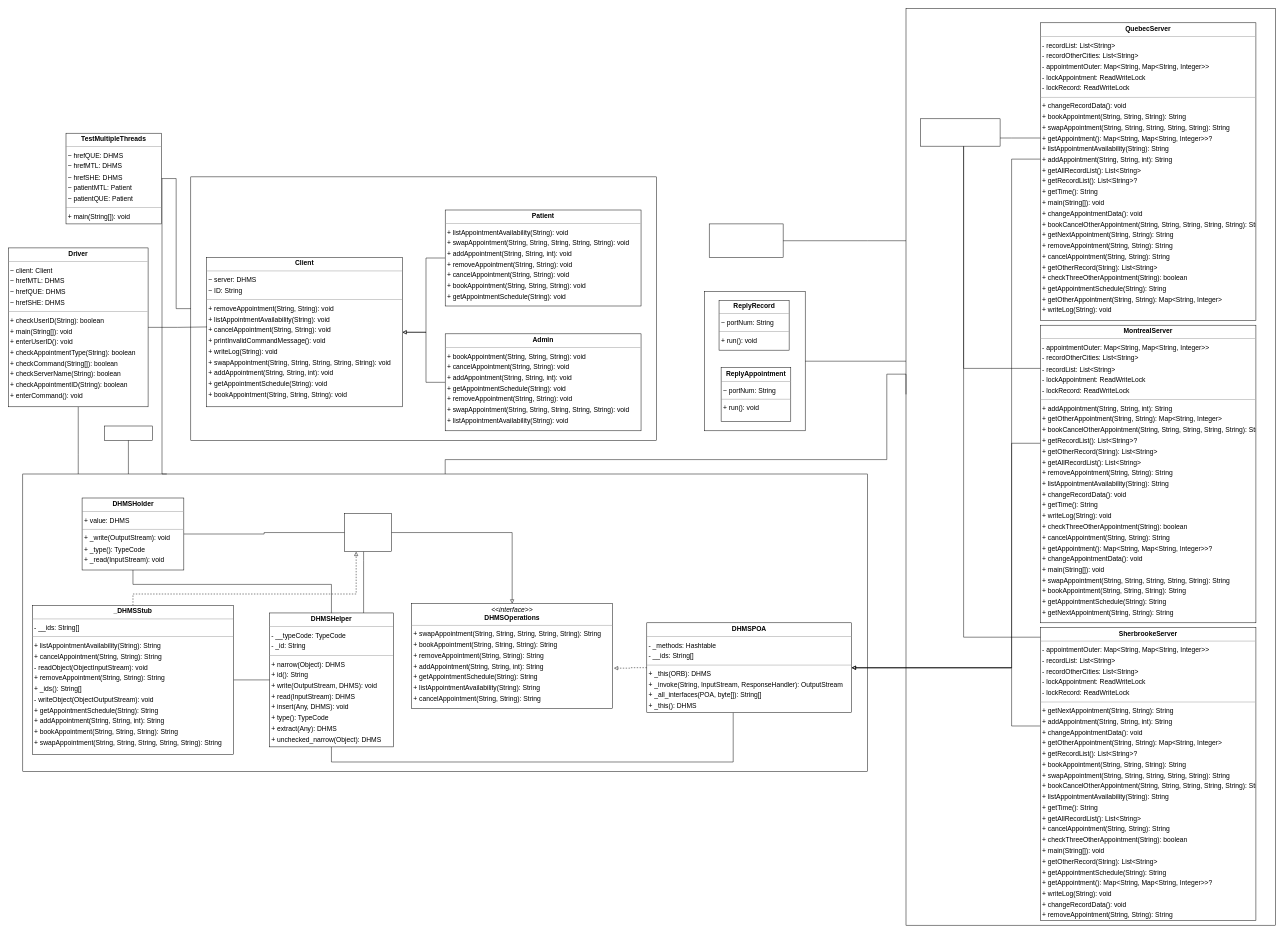
Some shapes in this 1284 by 934 pixel diagram are drawn without their labels. Here are the shapes that lost their labels. From the top down, the centre of each, then its label:
At (x=960, y=132): "Server + main(String[]): void".
At (x=746, y=240): "Constants".
At (x=128, y=433): "DHMS.idl".
At (x=367, y=532): "<<interface>> DHMS".
